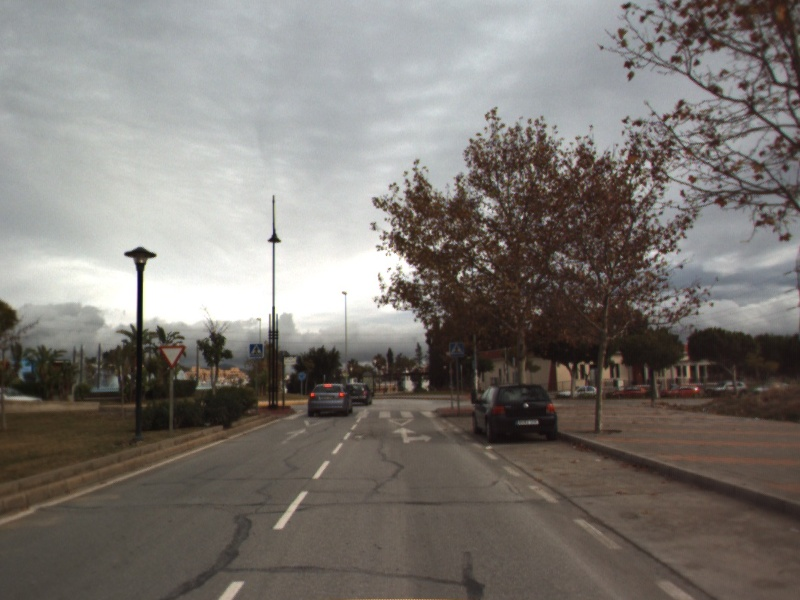STRAIGHT: (279, 426, 311, 446)
STRAIGHT_RIGHT: (390, 425, 434, 445)
